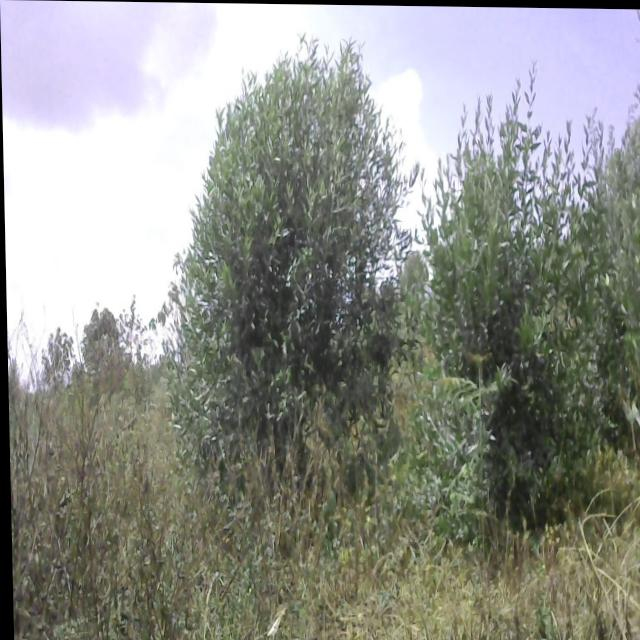Salix alba: (169, 34, 421, 490), (418, 67, 613, 508)
